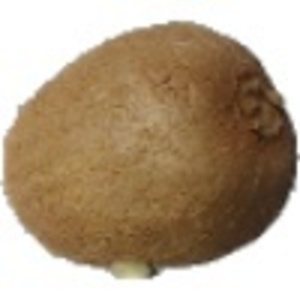kiwi: (1, 19, 300, 284)
